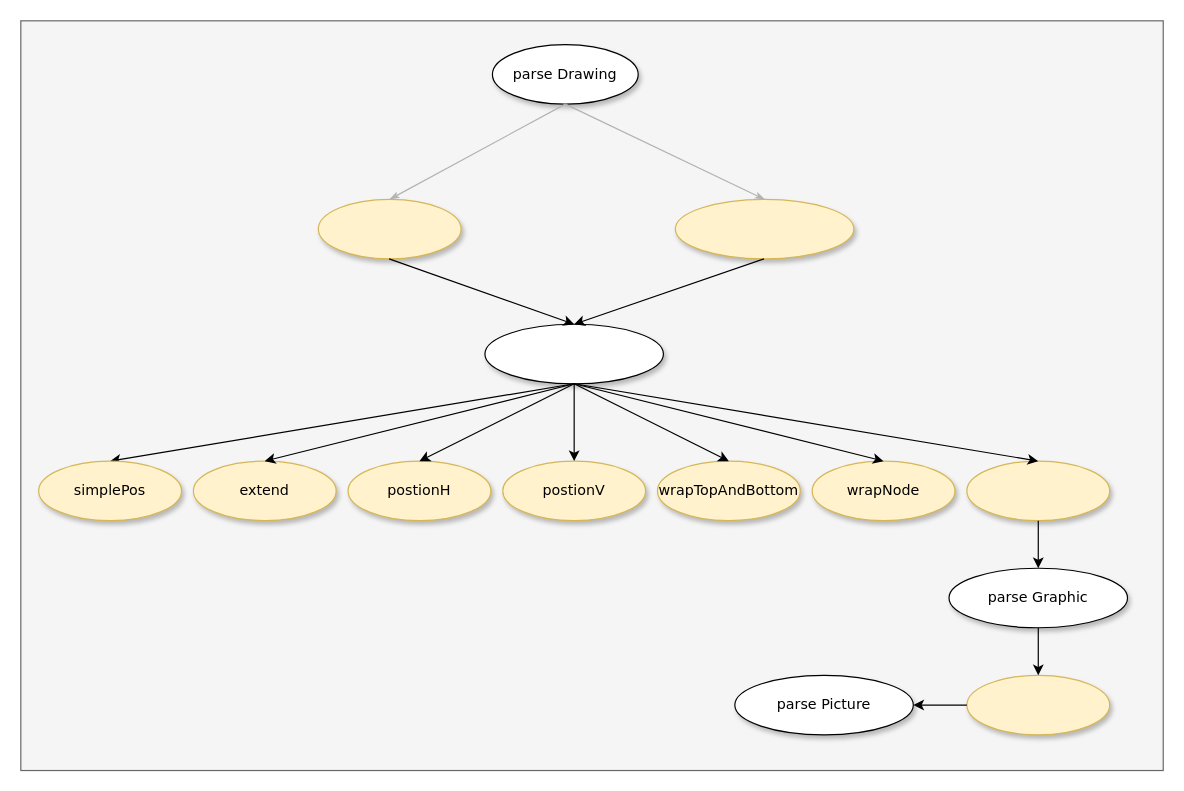
This 1184x791 diagram has some shape labels left out. Each missing label, with the centre of its shape:
anchor: the point at 765,230
graphic: the point at 1039,492
inline: the point at 390,230
parse DrawingWrapper: the point at 575,355
pic: the point at 1039,706
